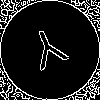Y: (25, 25, 74, 80)
